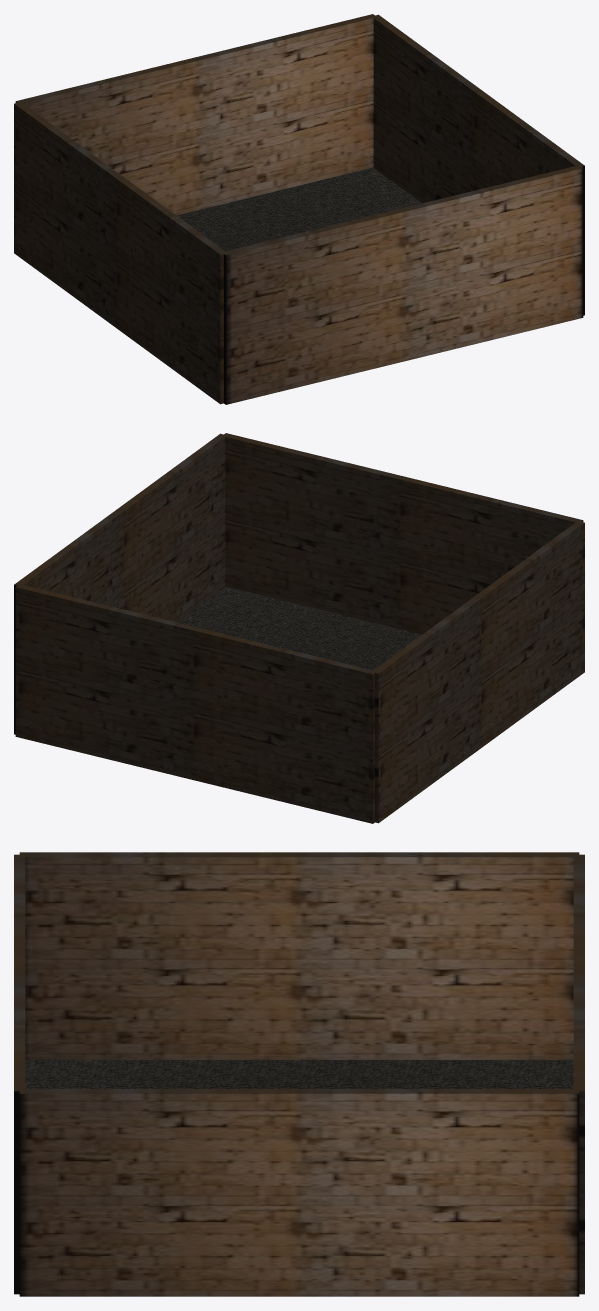
The model's file is museum_test.gltf.
The picture shows the model from 3 angles, top to bottom: view 1: azimuth 30°, elevation 25°; view 2: azimuth 150°, elevation 25°; view 3: azimuth 270°, elevation 25°; orthographic projection. The views are drawn at different scales.
Parts seen in each view (by area): view 1: Cube; view 2: Cube; view 3: Cube.
Boxes of the visible parts, box(x1,y1,x2,y2) form: Cube: box(14, 14, 584, 404); Cube: box(14, 433, 584, 823); Cube: box(14, 852, 584, 1296).
Size of the model in its own units: 20.4 by 8 by 20.4.
3 materials, 3 textured.
